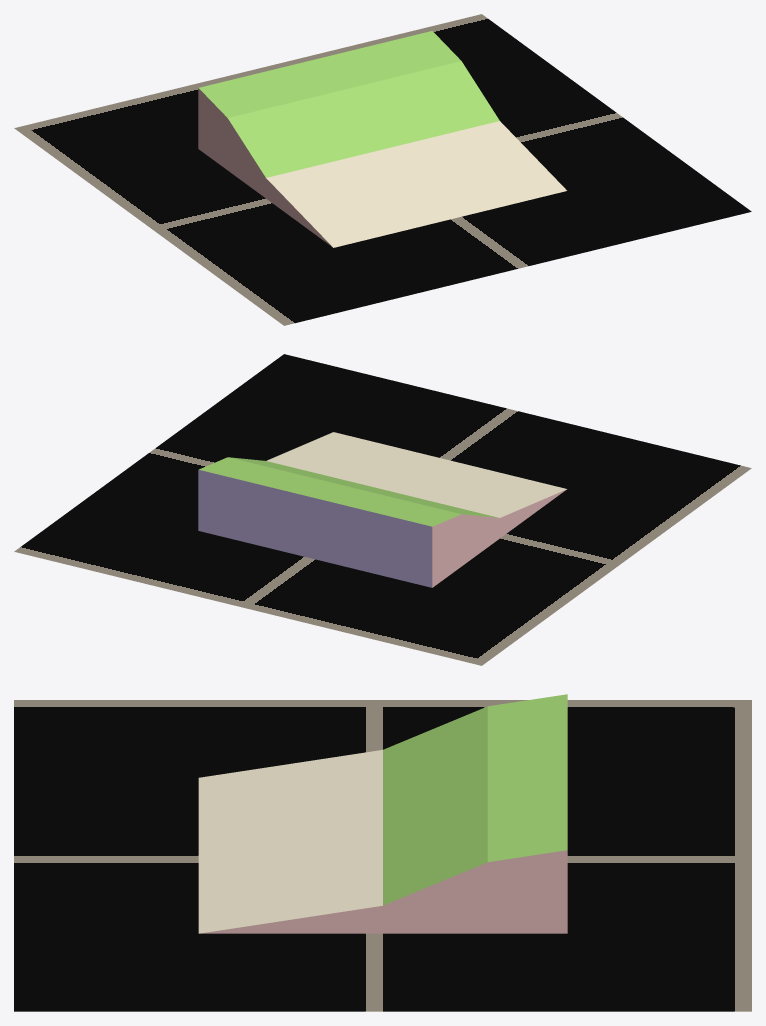
The model's file is Path_Terrain_Basic_Straight_1x1.glb.
The picture shows the model from 3 angles, top to bottom: view 1: azimuth 30°, elevation 25°; view 2: azimuth 150°, elevation 25°; view 3: azimuth 270°, elevation 25°; orthographic projection. The views are drawn at different scales.
Visible parts, largest first — view 1: Floor, Path_Terrain_Basic_Straight_1x1; view 2: Floor, Path_Terrain_Basic_Straight_1x1; view 3: Floor, Path_Terrain_Basic_Straight_1x1.
Part boxes in pixels (x1,y1,x2,y2): Floor: (14, 14, 751, 325); Path_Terrain_Basic_Straight_1x1: (198, 31, 566, 247); Floor: (14, 354, 751, 665); Path_Terrain_Basic_Straight_1x1: (198, 432, 566, 587); Floor: (14, 700, 751, 1011); Path_Terrain_Basic_Straight_1x1: (198, 694, 567, 933).
Bounding box in the file's own units: 200 × 25 × 200.
Materials: 6 (1 with a texture image).
